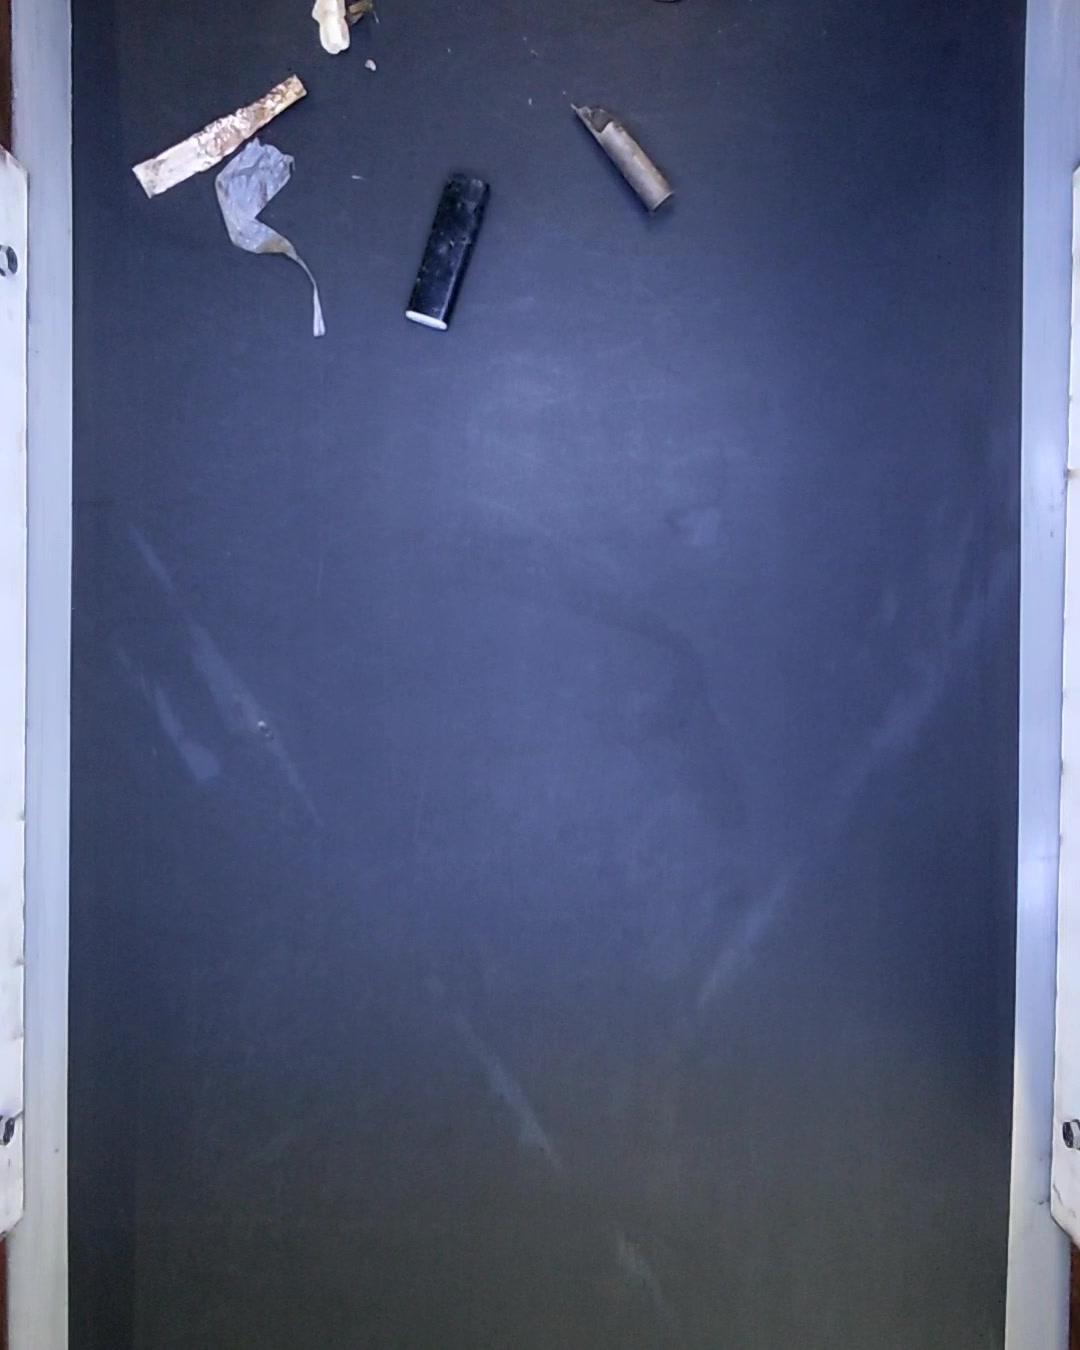Plastic folies of stukken daarvan 2.5- 50 cm: (210, 136, 337, 342)
